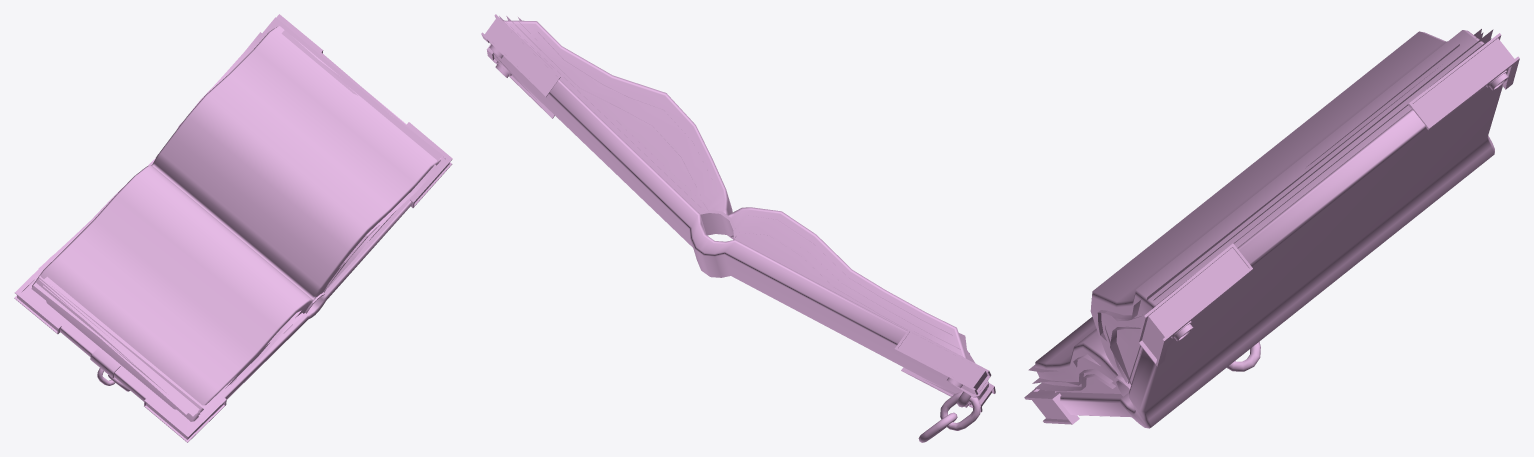
3 renders of one model, left to right at view 1: azimuth 30°, elevation 25°; view 2: azimuth 150°, elevation 25°; view 3: azimuth 270°, elevation 25°, orthographic. The views are drawn at different scales.
Parts seen in each view (by area): view 1: book; view 2: book; view 3: book.
Boxes of the visible parts, x1=… form: book: x1=14, y1=14, x2=452, y2=442; book: x1=481, y1=14, x2=995, y2=442; book: x1=1024, y1=29, x2=1519, y2=428.
Size of the model in its own units: 8121 by 5976 by 4544.
